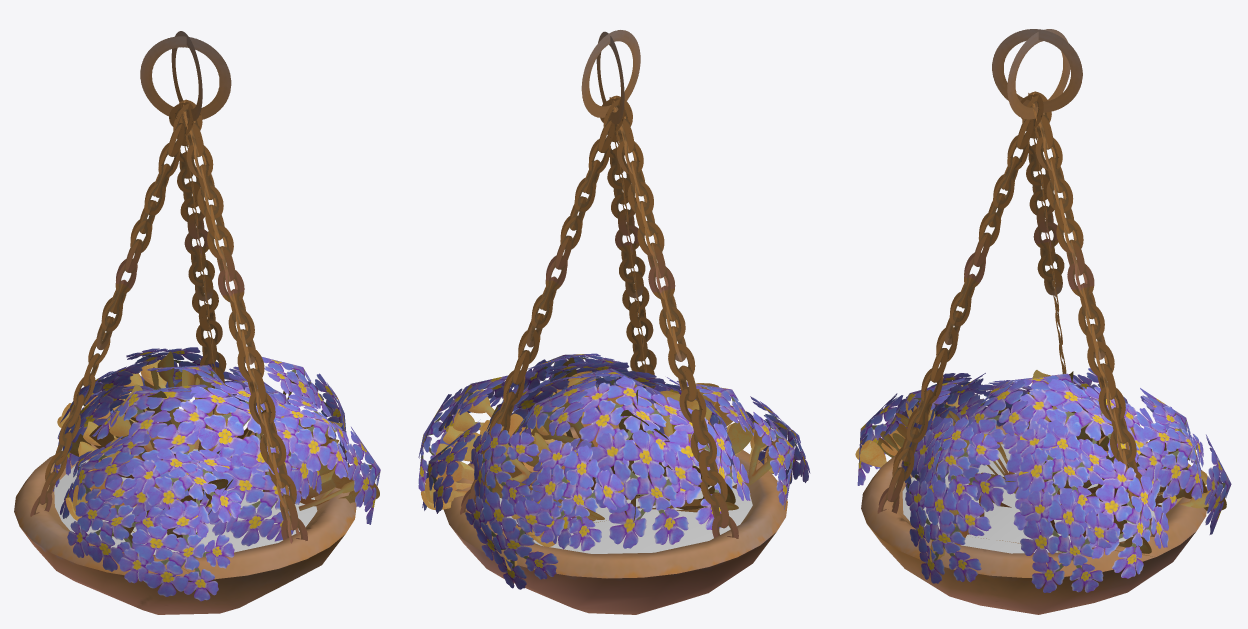
Rendered from SM_Potion_Props_FlowerPot_03_C.fbx.
3 views of the same model, side by side, from view 1: azimuth 30°, elevation 25°; view 2: azimuth 150°, elevation 25°; view 3: azimuth 270°, elevation 25° (orthographic).
Parts seen in each view (by area): view 1: SM_Potion_Props_FlowerPot_03_C_LOD0; view 2: SM_Potion_Props_FlowerPot_03_C_LOD0; view 3: SM_Potion_Props_FlowerPot_03_C_LOD0.
Part boxes in pixels (left/top/right/bottom): SM_Potion_Props_FlowerPot_03_C_LOD0: left=14, top=31, right=380, bottom=614; SM_Potion_Props_FlowerPot_03_C_LOD0: left=418, top=30, right=810, bottom=614; SM_Potion_Props_FlowerPot_03_C_LOD0: left=855, top=29, right=1231, bottom=614.
Size of what is drawn, in the model's own units: 38.29 by 63.75 by 39.59.
